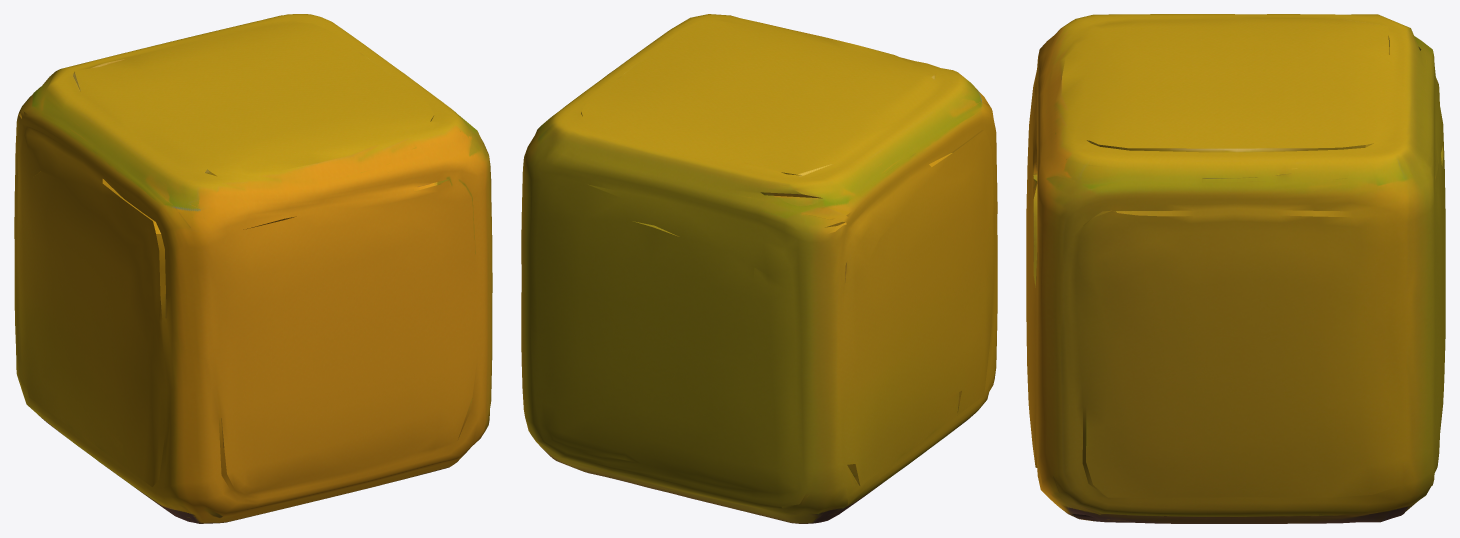
Rendered from brick_gold.glb.
3 renders of one model, left to right at view 1: azimuth 30°, elevation 25°; view 2: azimuth 150°, elevation 25°; view 3: azimuth 270°, elevation 25°, orthographic. The views are drawn at different scales.
Parts seen in each view (by area): view 1: Mesh_0; view 2: Mesh_0; view 3: Mesh_0.
Part boxes in pixels (<box>): Mesh_0: <box>14,14,492,523</box>; Mesh_0: <box>521,14,997,523</box>; Mesh_0: <box>1026,14,1445,523</box>.
Bounding box in the file's own units: 1.9 × 1.9 × 1.9.
Materials: 1 (1 with a texture image).
